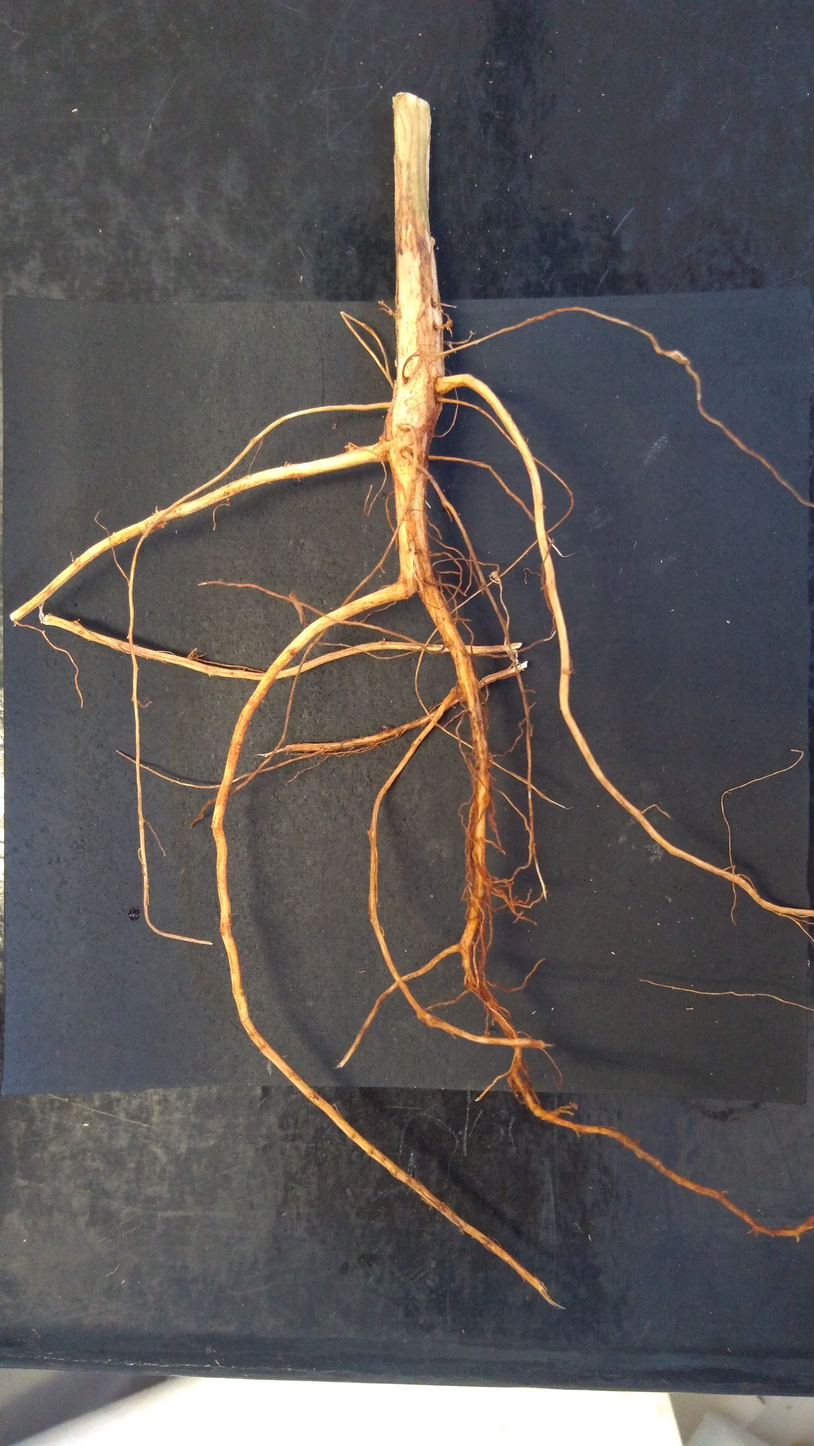nodule: (490, 570, 500, 583), (446, 319, 453, 327)
